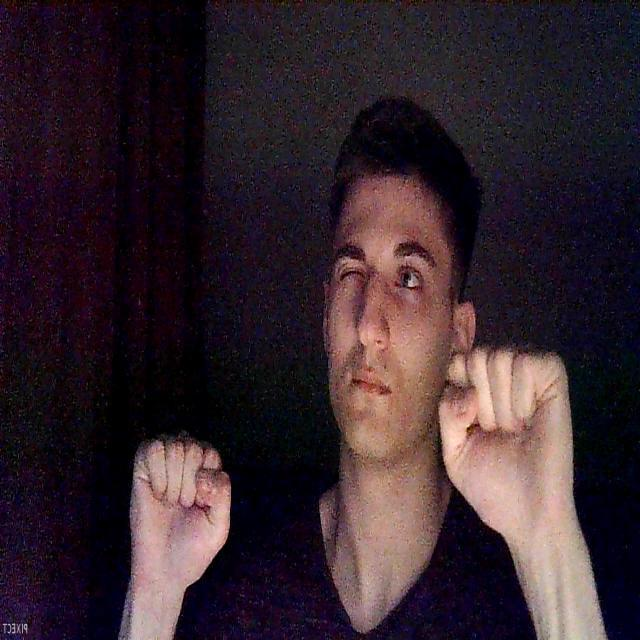open: (388, 238, 438, 301)
